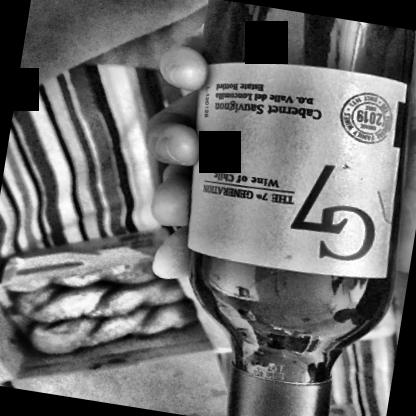G7: (168, 50, 416, 284)
